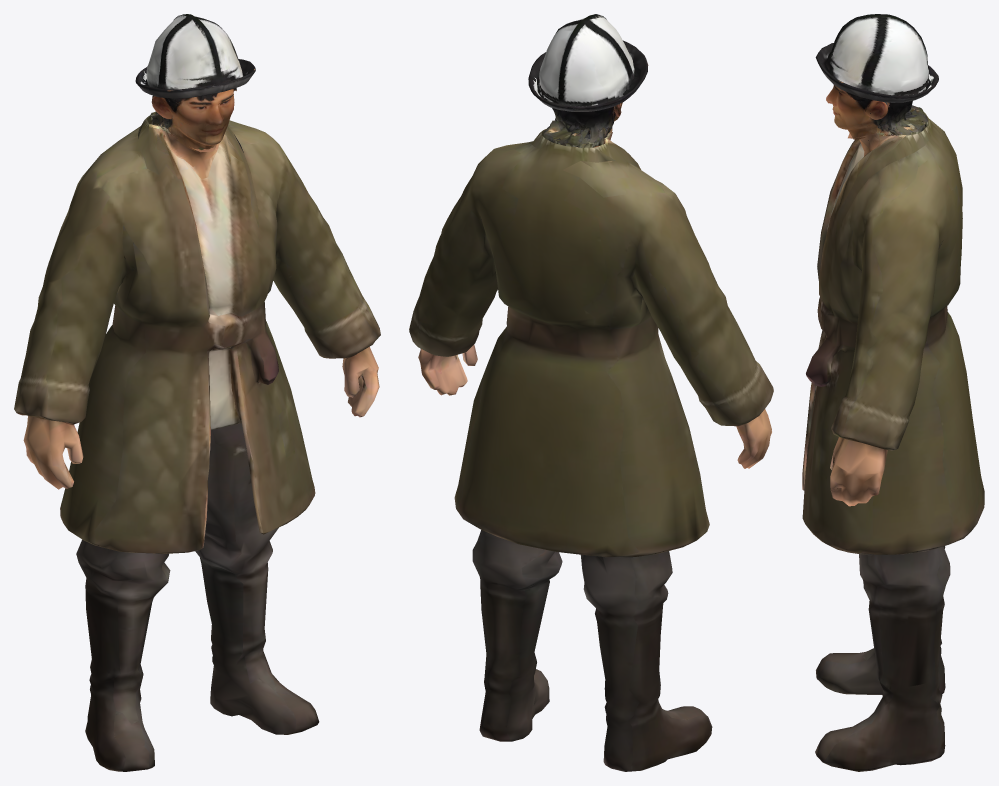
File: herder-erlan.gen.glb
3 views of the same model, side by side, from view 1: azimuth 30°, elevation 25°; view 2: azimuth 150°, elevation 25°; view 3: azimuth 270°, elevation 25° (orthographic).
Visible parts, largest first — view 1: herder-erlan.raw; view 2: herder-erlan.raw; view 3: herder-erlan.raw.
Part boxes in pixels (x1,y1,x2,y2): herder-erlan.raw: (14, 14, 380, 771); herder-erlan.raw: (409, 14, 773, 771); herder-erlan.raw: (802, 14, 984, 771).
Size of the model in its own units: 0.9567 by 1.85 by 0.4318.
1 material, 1 textured.
